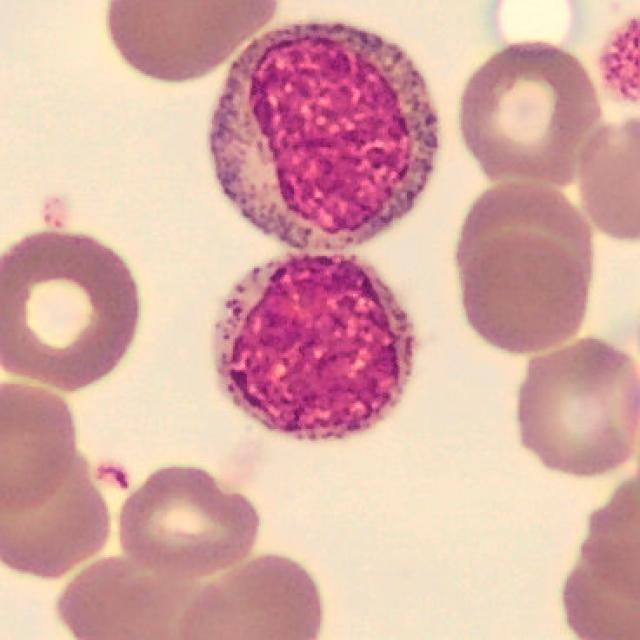Mielocito: (209, 22, 440, 258)
